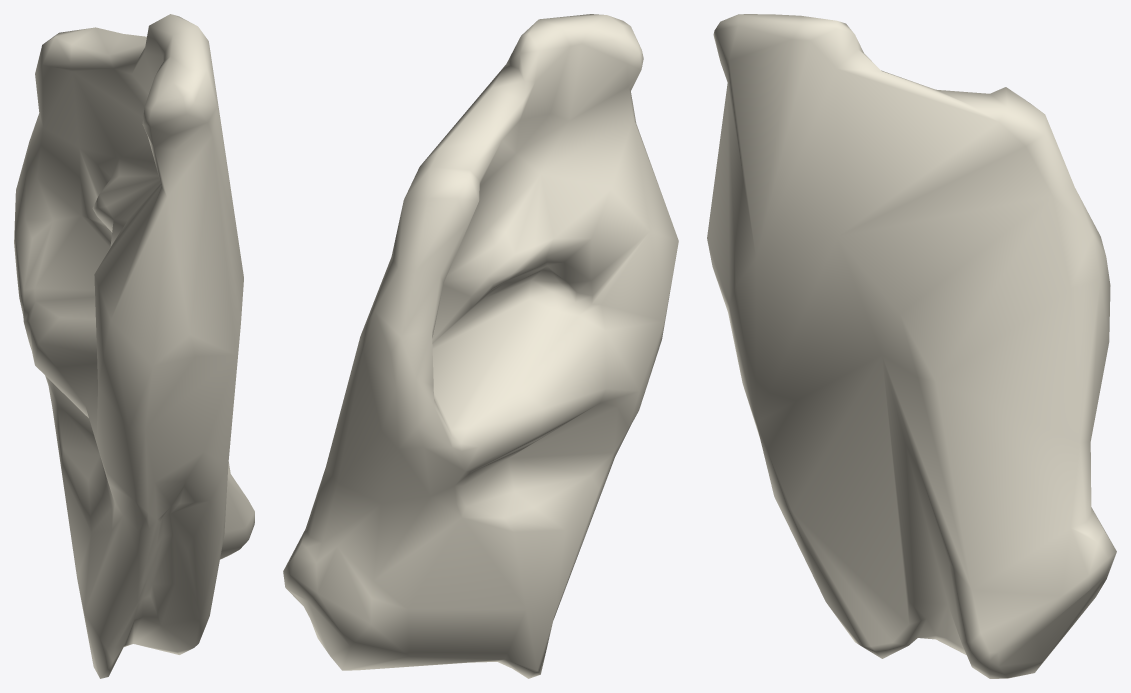
3 renders of one model, left to right at view 1: azimuth 30°, elevation 25°; view 2: azimuth 150°, elevation 25°; view 3: azimuth 270°, elevation 25°, orthographic. The views are drawn at different scales.
Visible parts, largest first — view 1: ZA_5036012603fee613; view 2: ZA_5036012603fee613; view 3: ZA_5036012603fee613.
Boxes of the visible parts, bbox=[...] form: ZA_5036012603fee613: bbox=[14, 14, 254, 678]; ZA_5036012603fee613: bbox=[283, 14, 678, 678]; ZA_5036012603fee613: bbox=[707, 14, 1116, 678].
Size of the model in its own units: 0.0107 by 0.0251 by 0.0147.
